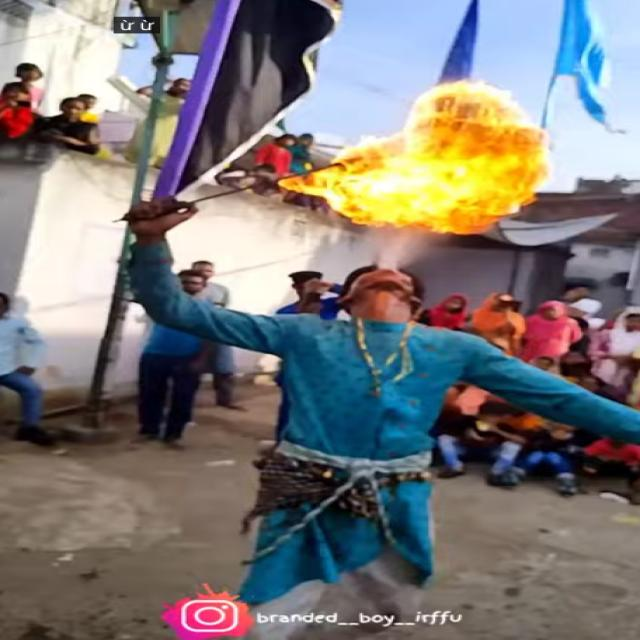fire: (400, 136, 548, 236), (278, 137, 398, 230), (402, 81, 552, 134)
